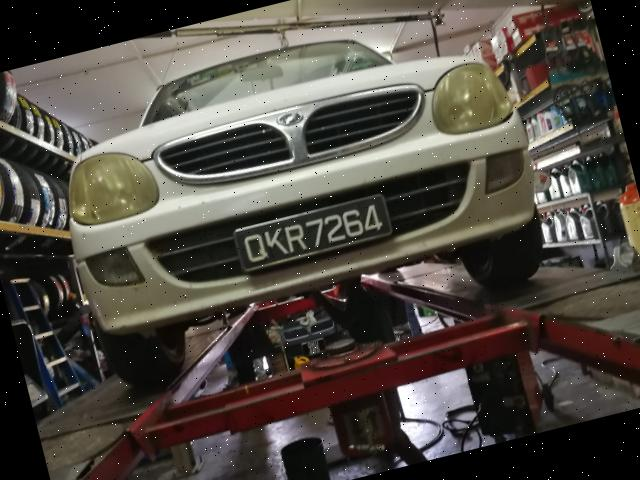License_Plate: (235, 194, 395, 272)
car: (20, 1, 566, 399)
